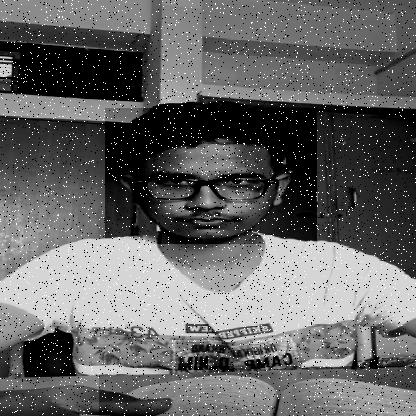Normal: (105, 108, 317, 244), (99, 366, 416, 416)
